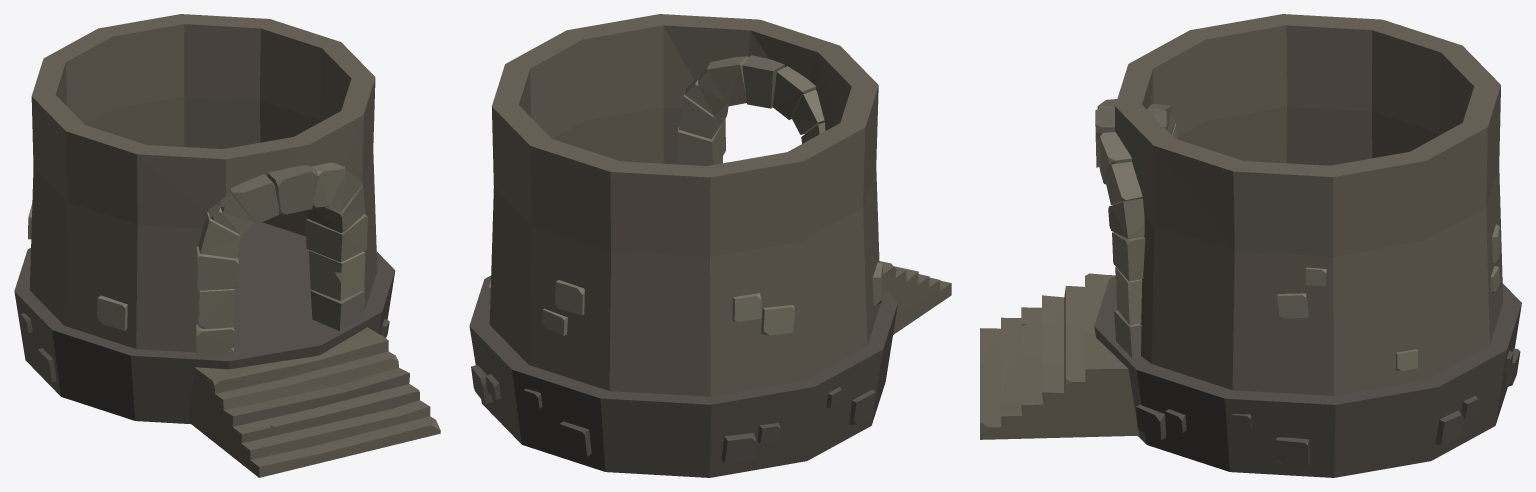
3 views of the same model, side by side, from view 1: azimuth 30°, elevation 25°; view 2: azimuth 150°, elevation 25°; view 3: azimuth 270°, elevation 25° (orthographic). The views are drawn at different scales.
Parts seen in each view (by area): view 1: mff_tower_base; view 2: mff_tower_base; view 3: mff_tower_base.
Boxes of the visible parts, box(x1,y1,x2,y2) form: mff_tower_base: box(14, 14, 440, 477); mff_tower_base: box(469, 14, 951, 477); mff_tower_base: box(980, 14, 1521, 477).
Bounding box in the file's own units: 8.88 × 6.79 × 11.25.
1 material, 1 textured.
